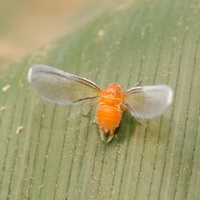insect: (28, 65, 172, 141)
